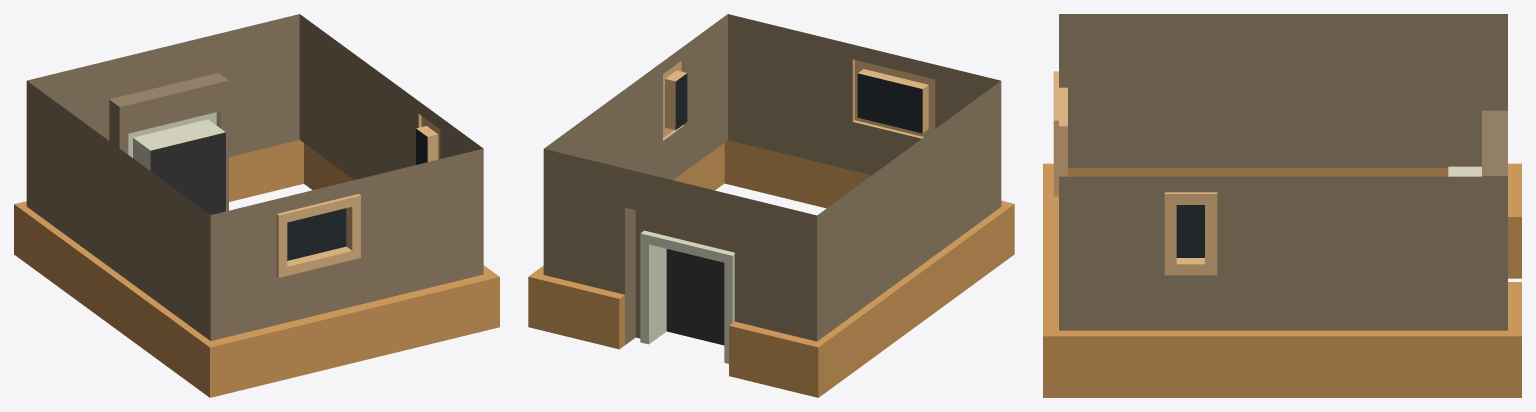
File: building2_ground.fbx
The picture shows the model from 3 angles, left to right: view 1: azimuth 30°, elevation 25°; view 2: azimuth 150°, elevation 25°; view 3: azimuth 270°, elevation 25°; orthographic projection. The views are drawn at different scales.
Visible parts, largest first — view 1: building2_ground; view 2: building2_ground; view 3: building2_ground.
Boxes of the visible parts, x1,y1,x2,y2 form: building2_ground: (14,14,499,397); building2_ground: (528,14,1014,397); building2_ground: (1043,14,1521,397).
Size of the model in its own units: 602 by 350 by 705.
